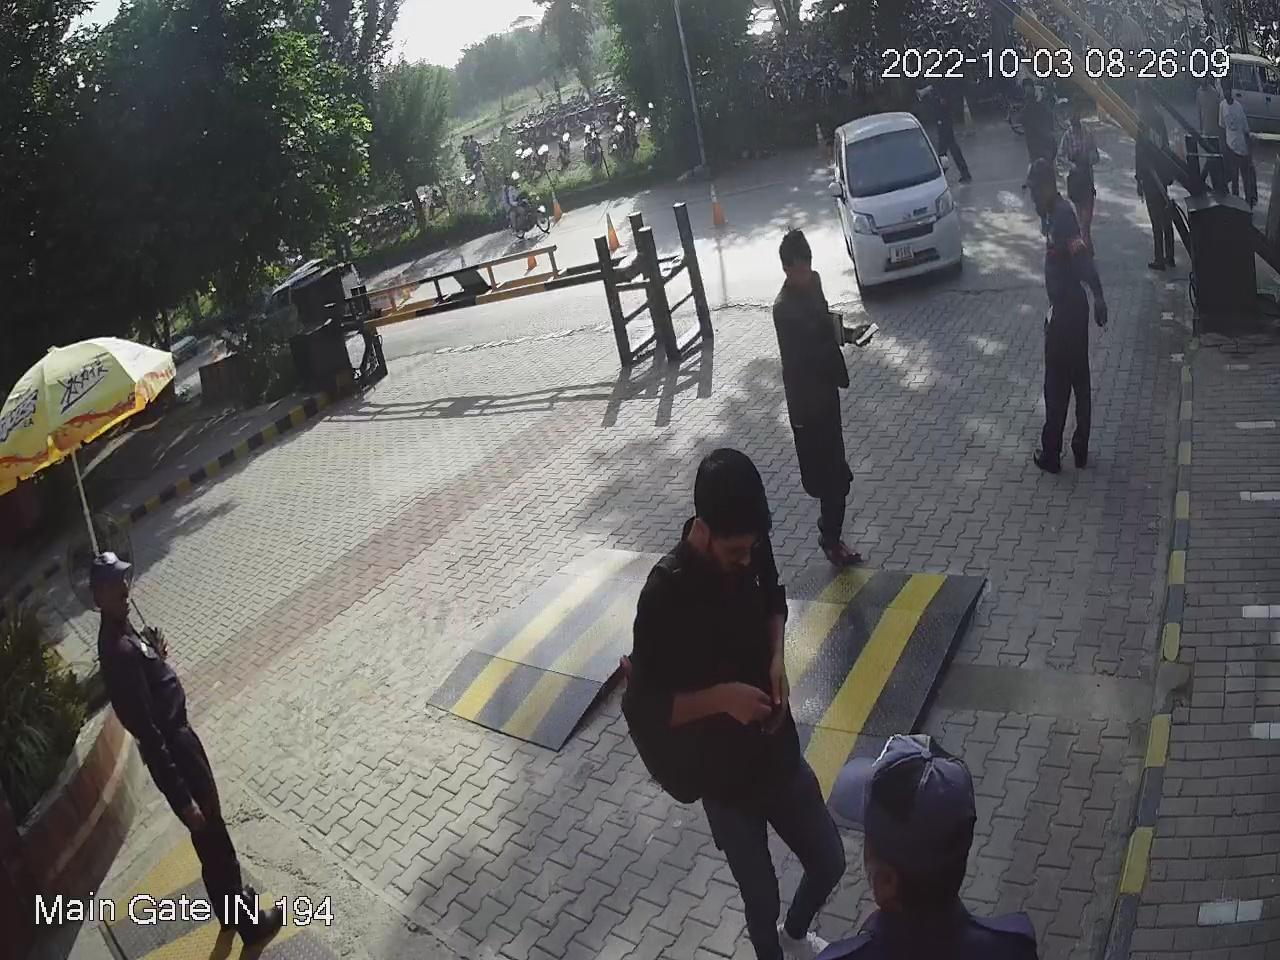windshield: (851, 118, 942, 200)
